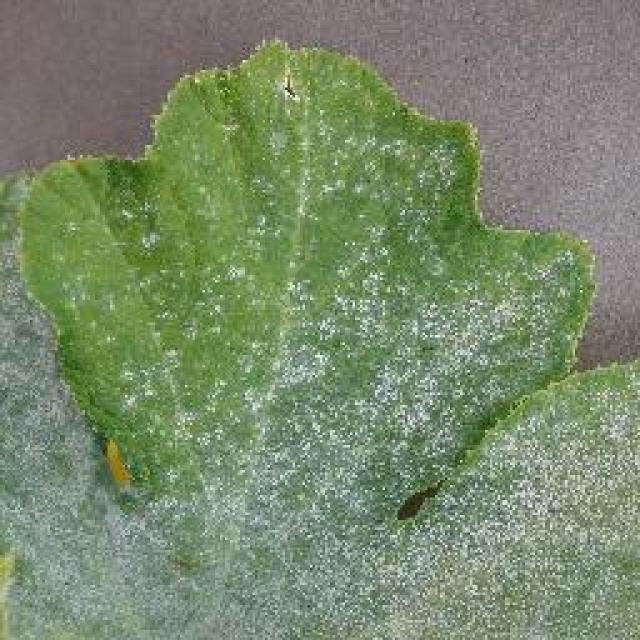Squ_Powdery_mildew: (31, 200, 553, 622)
